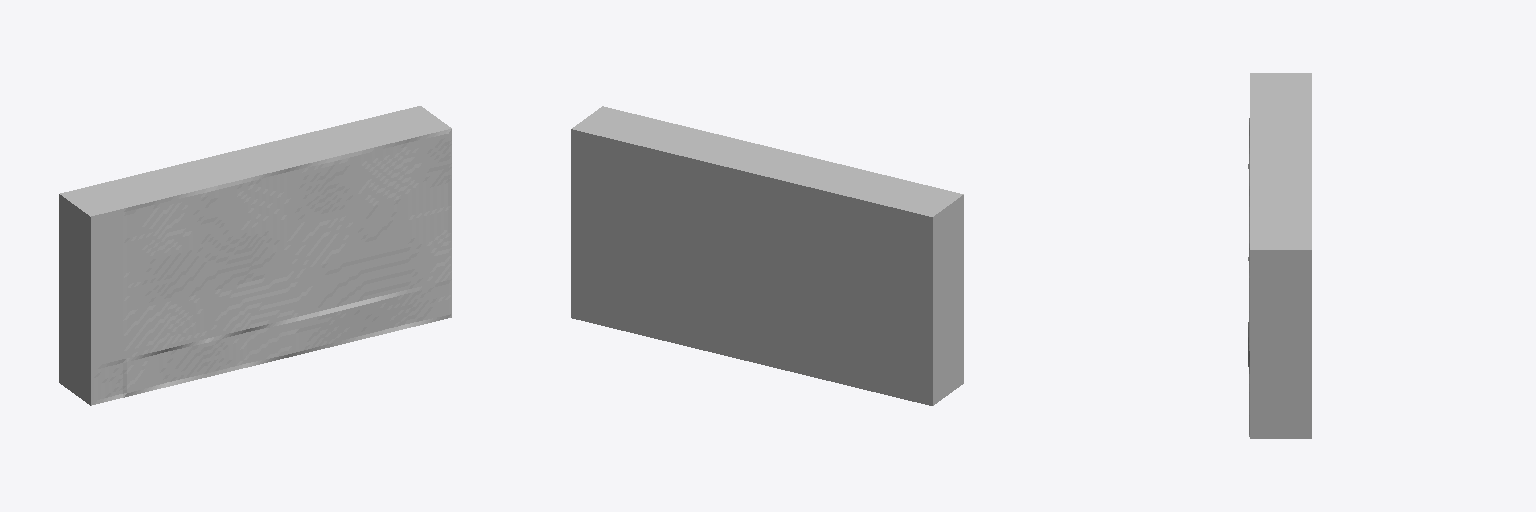
The model's file is rectangular_prism_bumps_2_4.obj.
3 renders of one model, left to right at view 1: azimuth 30°, elevation 25°; view 2: azimuth 150°, elevation 25°; view 3: azimuth 270°, elevation 25°, orthographic.
Bounding box in the file's own units: 10 × 5 × 1.54.